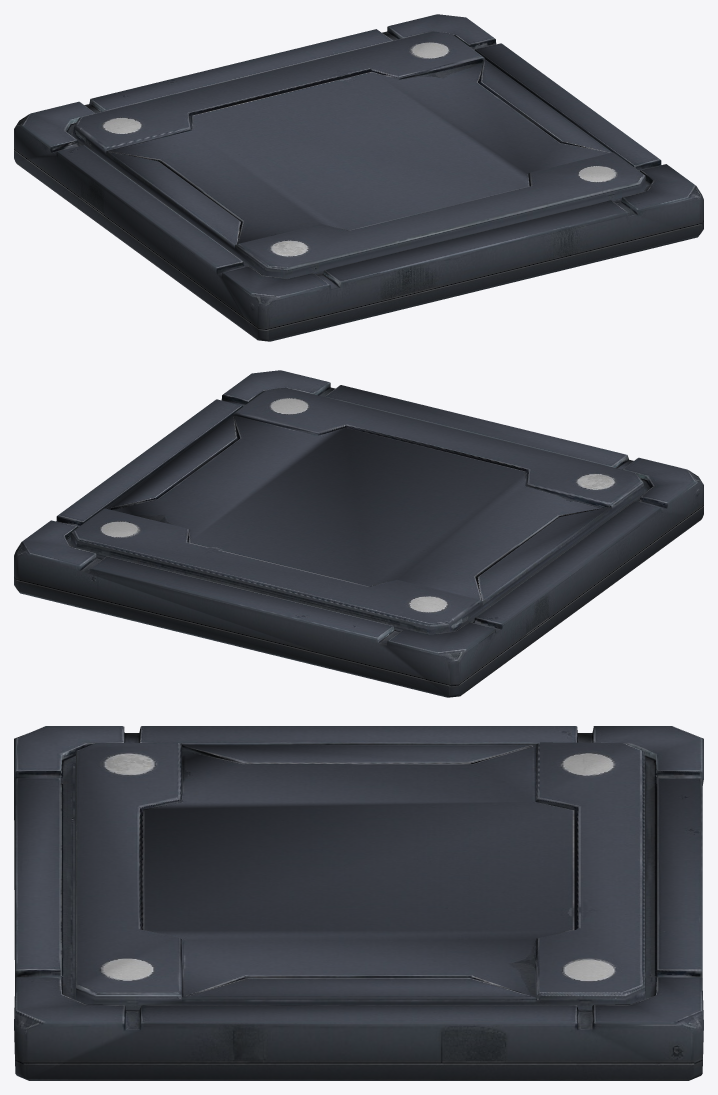
The model's file is floor3d-2.glb.
3 renders of one model, top to bottom at view 1: azimuth 30°, elevation 25°; view 2: azimuth 150°, elevation 25°; view 3: azimuth 270°, elevation 25°, orthographic. The views are drawn at different scales.
Visible parts, largest first — view 1: tripo_node_8ed3a3d5-fb79-46e2-a3ab-e5f408870227; view 2: tripo_node_8ed3a3d5-fb79-46e2-a3ab-e5f408870227; view 3: tripo_node_8ed3a3d5-fb79-46e2-a3ab-e5f408870227.
Part boxes in pixels (x1=…): tripo_node_8ed3a3d5-fb79-46e2-a3ab-e5f408870227: x1=14, y1=14, x2=703, y2=341; tripo_node_8ed3a3d5-fb79-46e2-a3ab-e5f408870227: x1=14, y1=370, x2=703, y2=697; tripo_node_8ed3a3d5-fb79-46e2-a3ab-e5f408870227: x1=14, y1=726, x2=703, y2=1080.
Bounding box in the file's own units: 0.998 × 0.1035 × 0.9785.
Materials: 1 (1 with a texture image).
